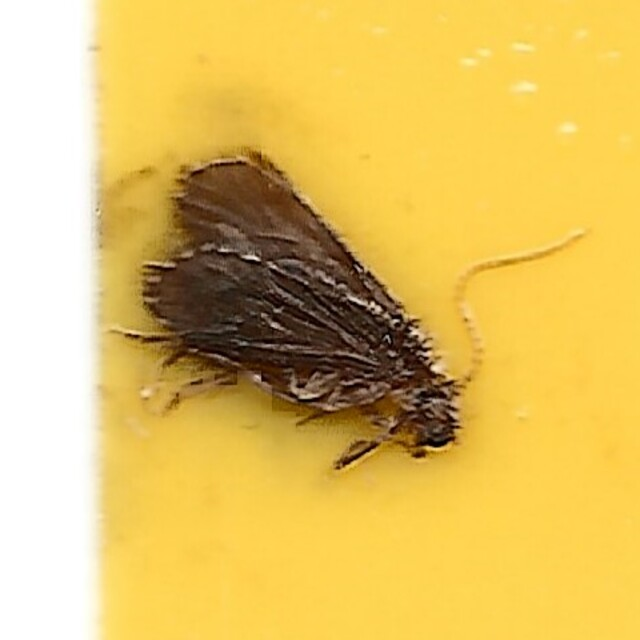Trichoptera: (133, 156, 507, 484)
